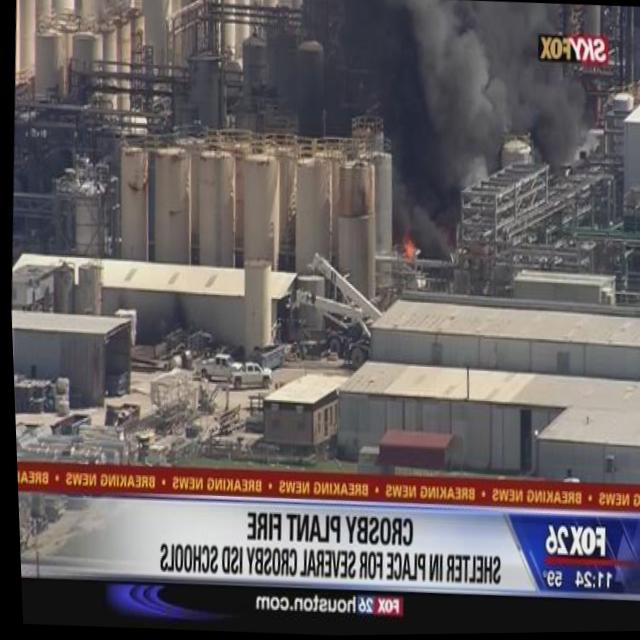fire: (398, 239, 418, 263)
